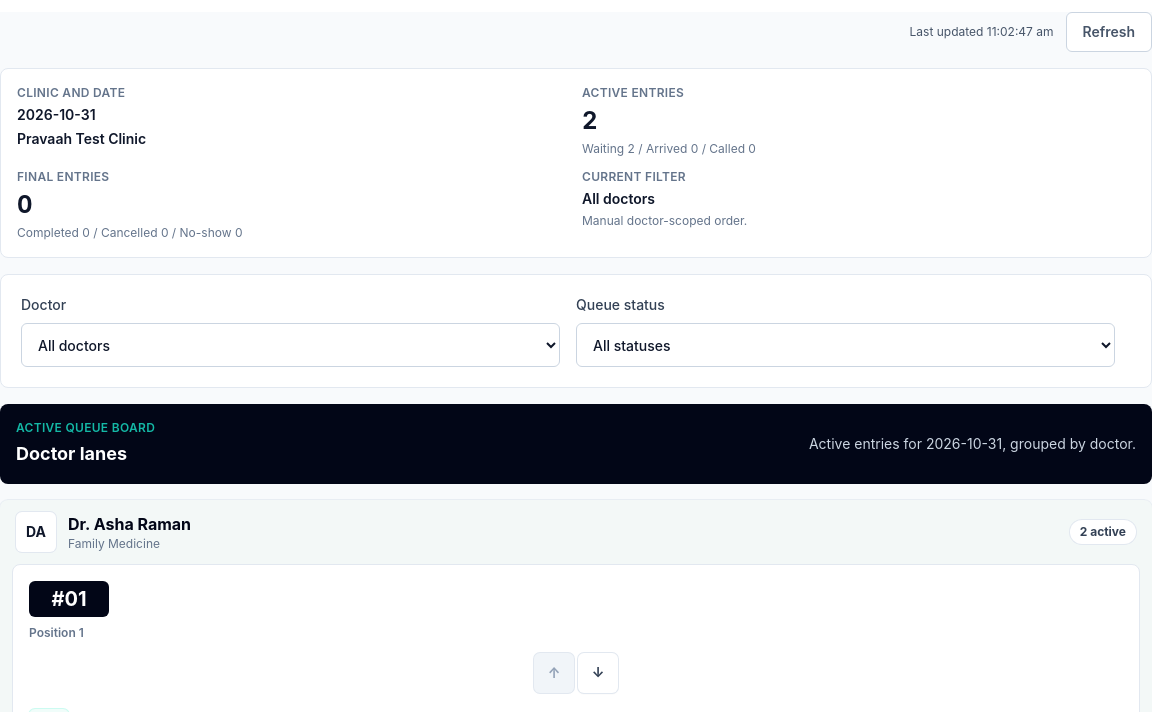
QueuePage manual reorder controls › sends the selected date and unique reordered queue-entry ids after a deliberate move
Click the button named "move riya malhotra down" at (598, 673), box [578,653,618,693]
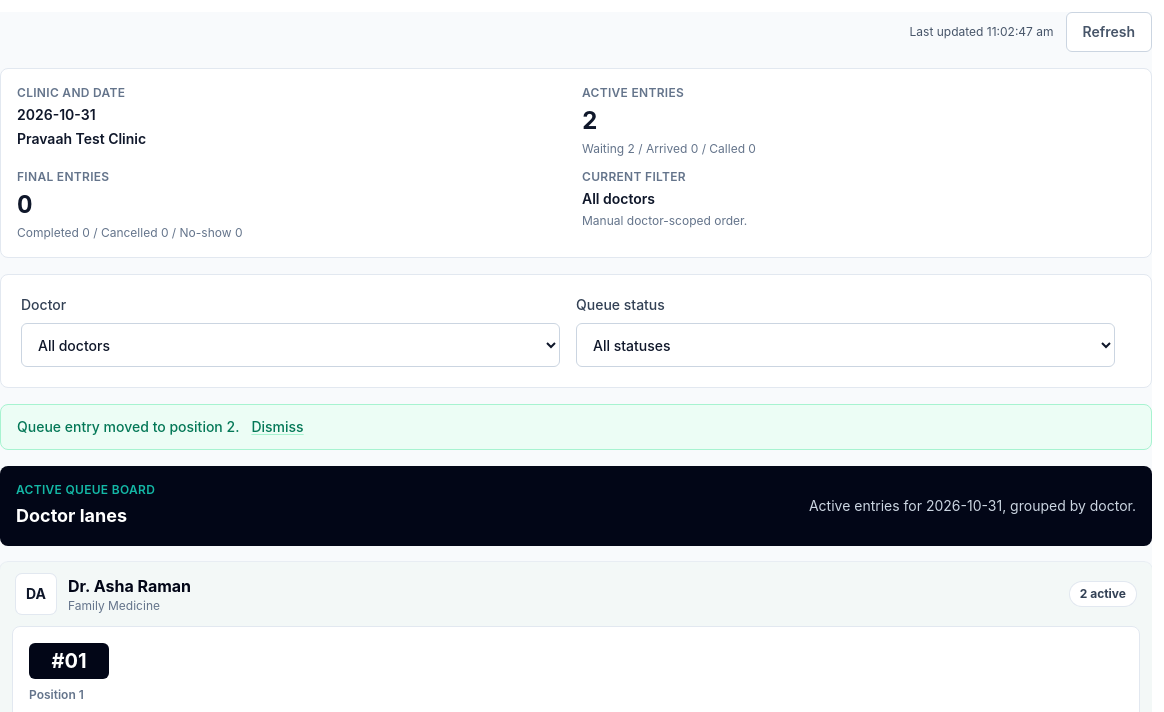
Check: the text "Queue entry moved to position 2." is shown, box [17,418,239,435]
